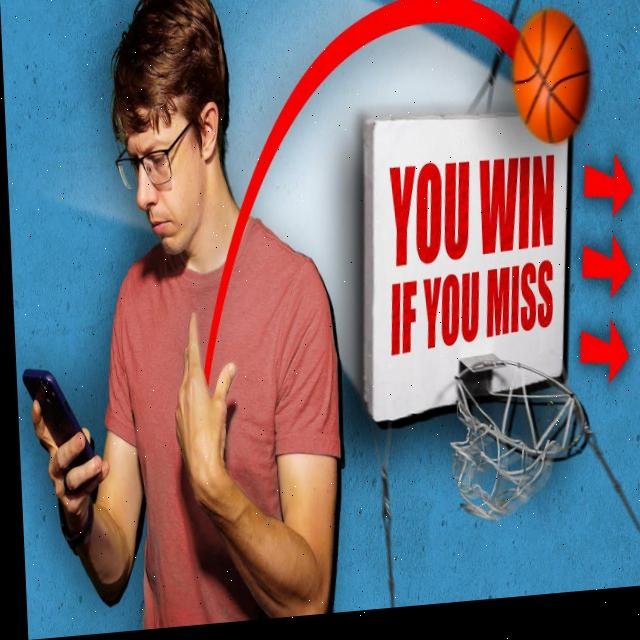basketball: (510, 6, 593, 147)
hoop: (447, 350, 588, 526)
